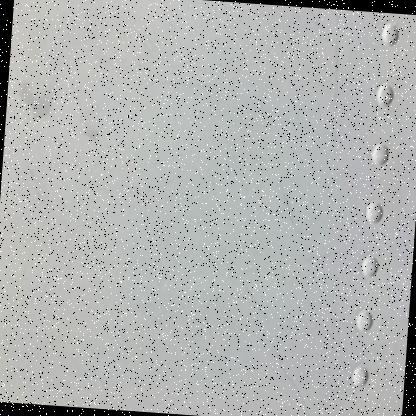Nocrack: (7, 13, 415, 406)
